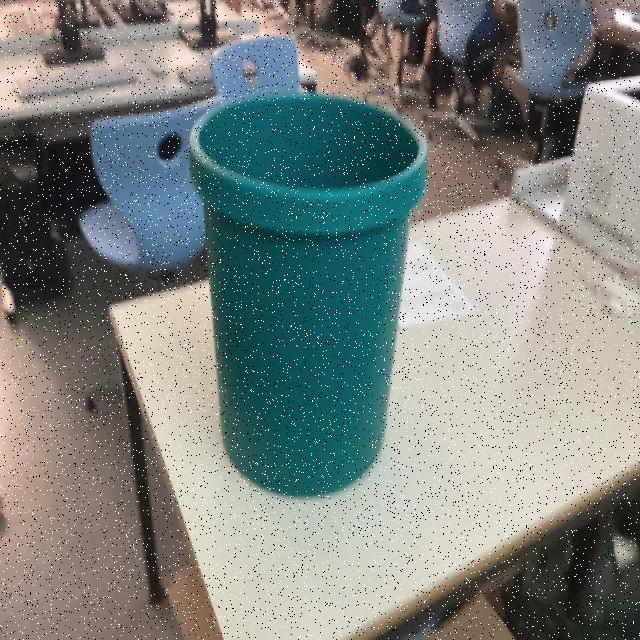garbage container: (182, 76, 438, 519)
